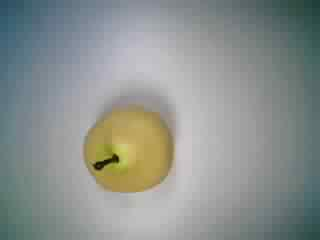pear: (69, 93, 185, 208)
